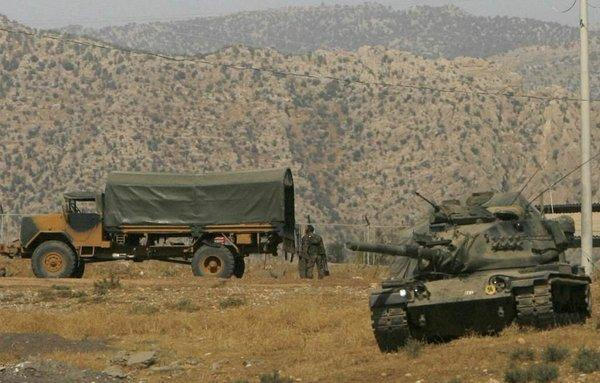person: (299, 224, 321, 281)
tank: (345, 190, 592, 354)
truck: (20, 166, 297, 280)
